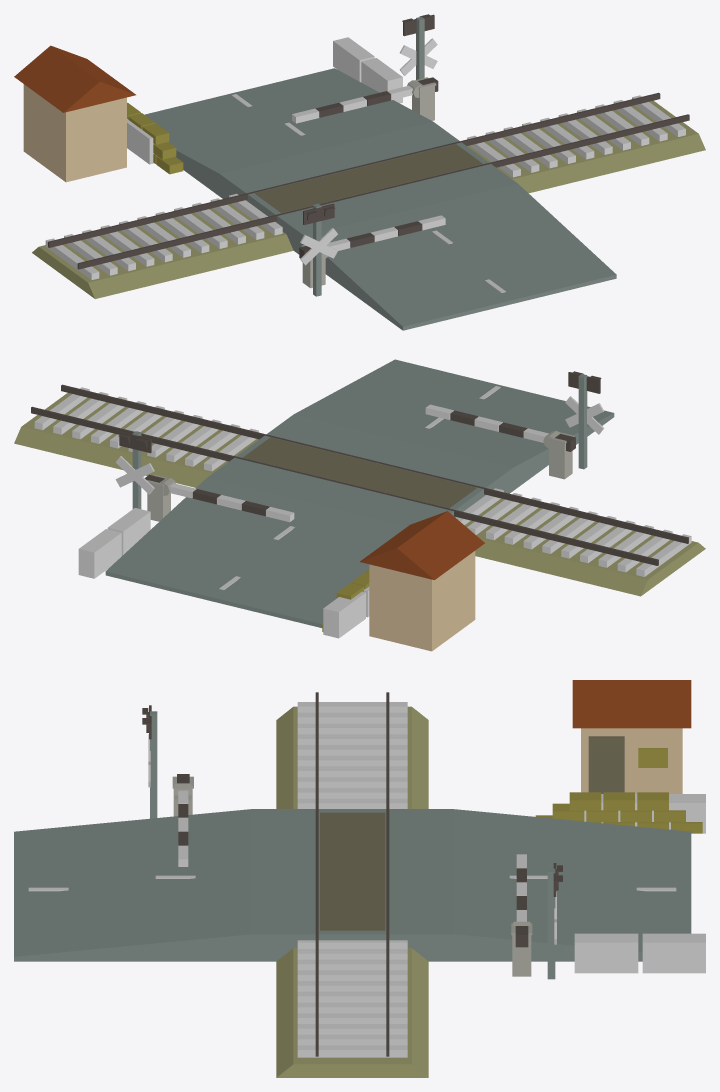
Rendered from SM_PasoNivel_90E_v3_Militar_LOD0.fbx.
3 renders of one model, top to bottom at view 1: azimuth 30°, elevation 25°; view 2: azimuth 150°, elevation 25°; view 3: azimuth 270°, elevation 25°, orthographic. The views are drawn at different scales.
Parts seen in each view (by area): view 1: SM_paso_nivel_kit_v23_LOD0, Barrera_1, Barrera_2; view 2: SM_paso_nivel_kit_v23_LOD0, Barrera_2, Barrera_1; view 3: SM_paso_nivel_kit_v23_LOD0, Barrera_2, Barrera_1.
Part boxes in pixels (x1,y1,x2,y2): SM_paso_nivel_kit_v23_LOD0: (14, 14, 705, 330); Barrera_1: (292, 77, 438, 123); Barrera_2: (299, 215, 445, 258); SM_paso_nivel_kit_v23_LOD0: (14, 359, 705, 651); Barrera_2: (425, 404, 575, 451); Barrera_1: (145, 474, 294, 522); SM_paso_nivel_kit_v23_LOD0: (14, 680, 705, 1077); Barrera_2: (174, 774, 191, 866); Barrera_1: (513, 854, 530, 947).
Bounding box in the file's own units: 20 × 3 × 16.35.
